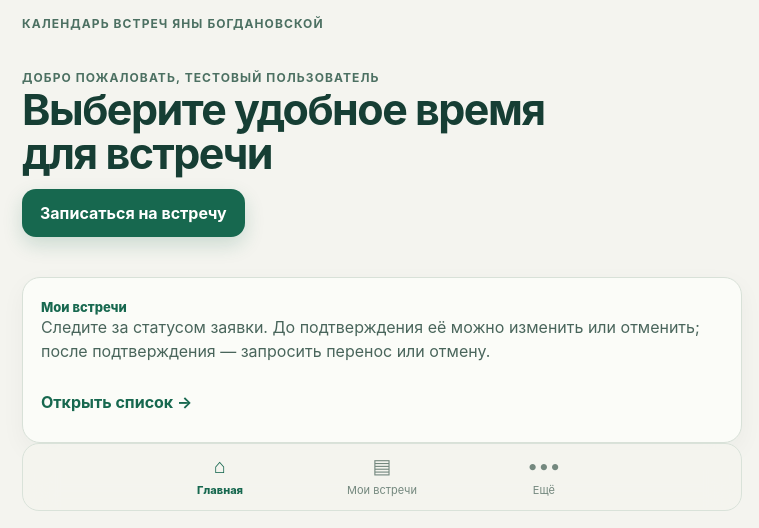
Test: локальный UAT экранов › не даёт начать запись, когда администратор её приостановил
Click the button "Записаться на встречу" at (133, 213), box [22, 189, 245, 237]
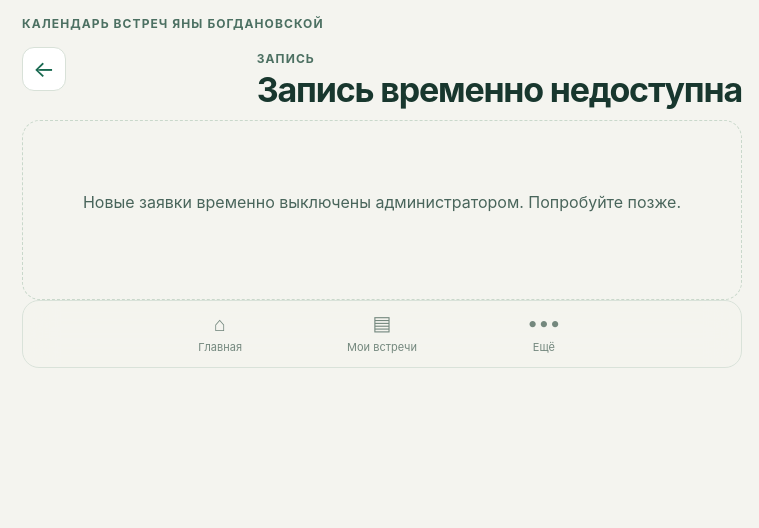
Expected: the heading "Запись временно недоступна" is shown, [257, 72, 742, 107]
Expected: the text "Новые заявки временно выключены администратором. Попробуйте позже." is shown, [83, 190, 681, 214]
